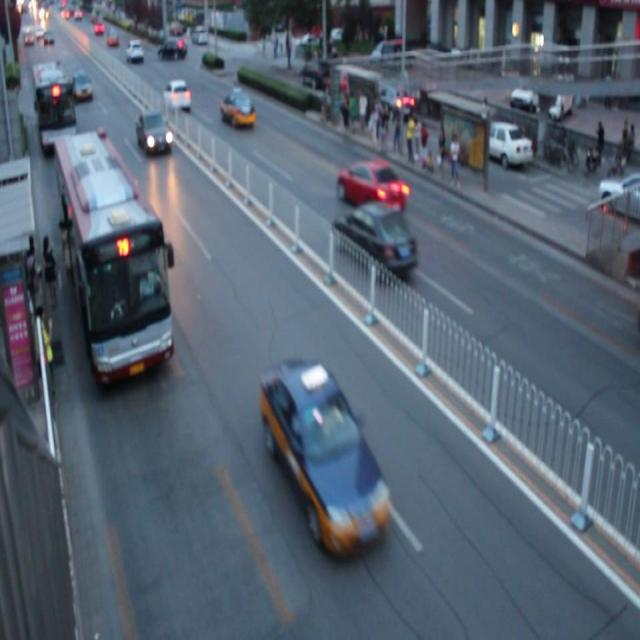car: (260, 356, 392, 554), (332, 200, 415, 282), (337, 160, 407, 218), (137, 106, 171, 158), (222, 90, 254, 128), (163, 78, 190, 113), (72, 70, 94, 102)
van: (52, 134, 173, 384), (31, 63, 78, 153)
